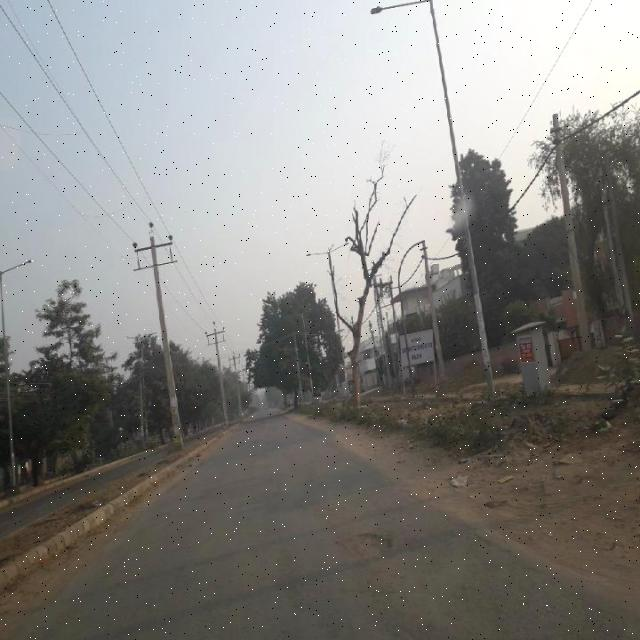D40: (335, 524, 397, 566)
